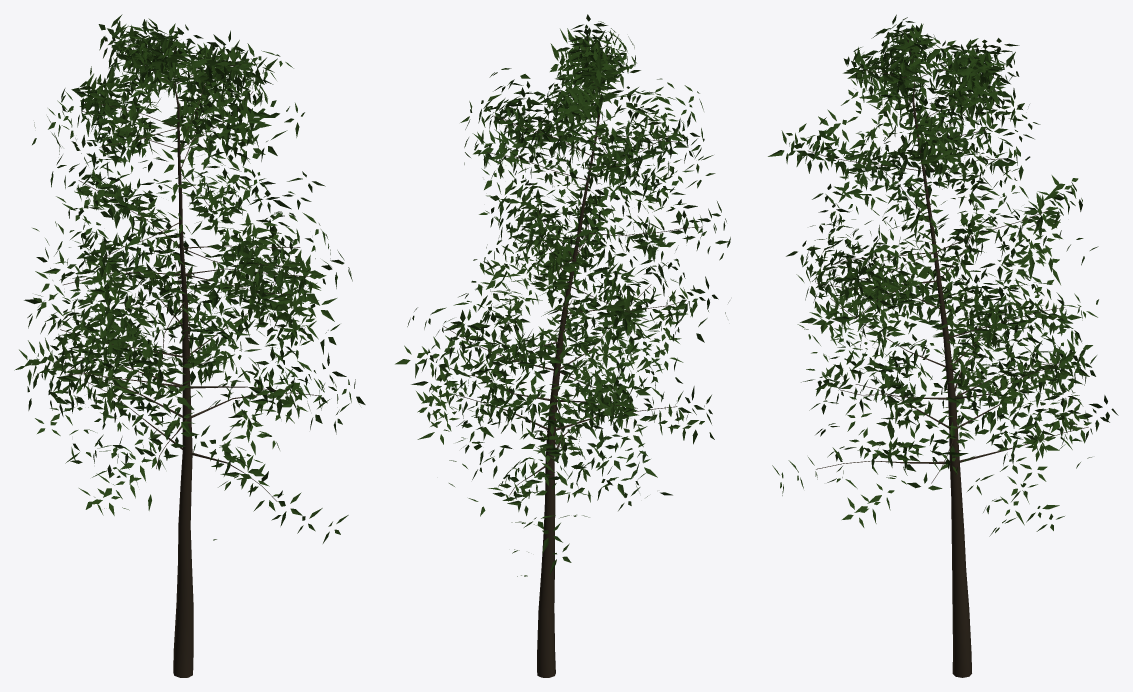
3 renders of one model, left to right at view 1: azimuth 30°, elevation 25°; view 2: azimuth 150°, elevation 25°; view 3: azimuth 270°, elevation 25°, orthographic. The views are drawn at different scales.
Parts seen in each view (by area): view 1: PCR0001B, PCR0016F, PCR0015F, PCR0013F, PCR0003F, PCR0002F, PCR0009F, PCR0021F, PCR0018F, PCR0004F, PCR0026F, PCR0012F (+20 smaller); view 2: PCR0001B, PCR0013F, PCR0015F, PCR0023F, PCR0031F, PCR0026F, PCR0018F, PCR0024F, PCR0004F, PCR0008F, PCR0003F, PCR0012F (+20 smaller); view 3: PCR0001B, PCR0031F, PCR0015F, PCR0013F, PCR0009F, PCR0003F, PCR0012F, PCR0002F, PCR0019F, PCR0016F, PCR0024F, PCR0008F (+20 smaller).
Boxes of the visible parts, bbox=[...] form: PCR0001B: bbox=[173, 47, 193, 677]; PCR0016F: bbox=[195, 226, 312, 374]; PCR0015F: bbox=[192, 182, 352, 340]; PCR0013F: bbox=[32, 123, 185, 274]; PCR0003F: bbox=[98, 14, 180, 107]; PCR0002F: bbox=[167, 40, 277, 108]; PCR0009F: bbox=[156, 122, 268, 267]; PCR0021F: bbox=[27, 257, 152, 413]; PCR0018F: bbox=[80, 281, 233, 435]; PCR0004F: bbox=[74, 61, 170, 219]; PCR0026F: bbox=[38, 287, 193, 477]; PCR0012F: bbox=[198, 171, 330, 339]; PCR0001B: bbox=[537, 53, 607, 677]; PCR0013F: bbox=[486, 197, 630, 352]; PCR0015F: bbox=[480, 179, 635, 307]; PCR0023F: bbox=[416, 298, 532, 444]; PCR0031F: bbox=[456, 383, 639, 576]; PCR0026F: bbox=[558, 312, 665, 497]; PCR0018F: bbox=[586, 276, 729, 373]; PCR0024F: bbox=[475, 343, 654, 518]; PCR0004F: bbox=[589, 77, 715, 188]; PCR0008F: bbox=[460, 73, 584, 167]; PCR0003F: bbox=[537, 67, 618, 144]; PCR0012F: bbox=[490, 156, 629, 309]; PCR0001B: bbox=[908, 40, 971, 677]; PCR0031F: bbox=[943, 369, 1118, 531]; PCR0015F: bbox=[812, 221, 943, 380]; PCR0013F: bbox=[943, 152, 1098, 308]; PCR0009F: bbox=[768, 89, 894, 225]; PCR0003F: bbox=[915, 38, 1019, 105]; PCR0012F: bbox=[819, 178, 944, 351]; PCR0002F: bbox=[843, 41, 929, 114]; PCR0019F: bbox=[960, 237, 1098, 348]; PCR0016F: bbox=[786, 219, 939, 372]; PCR0024F: bbox=[949, 282, 1097, 428]; PCR0008F: bbox=[878, 72, 1022, 193].
Size of the model in its own units: 5083 by 9984 by 4967.
